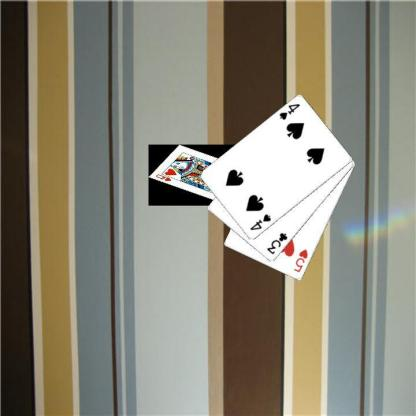3C: (264, 230, 289, 256)
4S: (247, 212, 272, 232), (277, 101, 301, 121)
5H: (291, 247, 309, 274)
